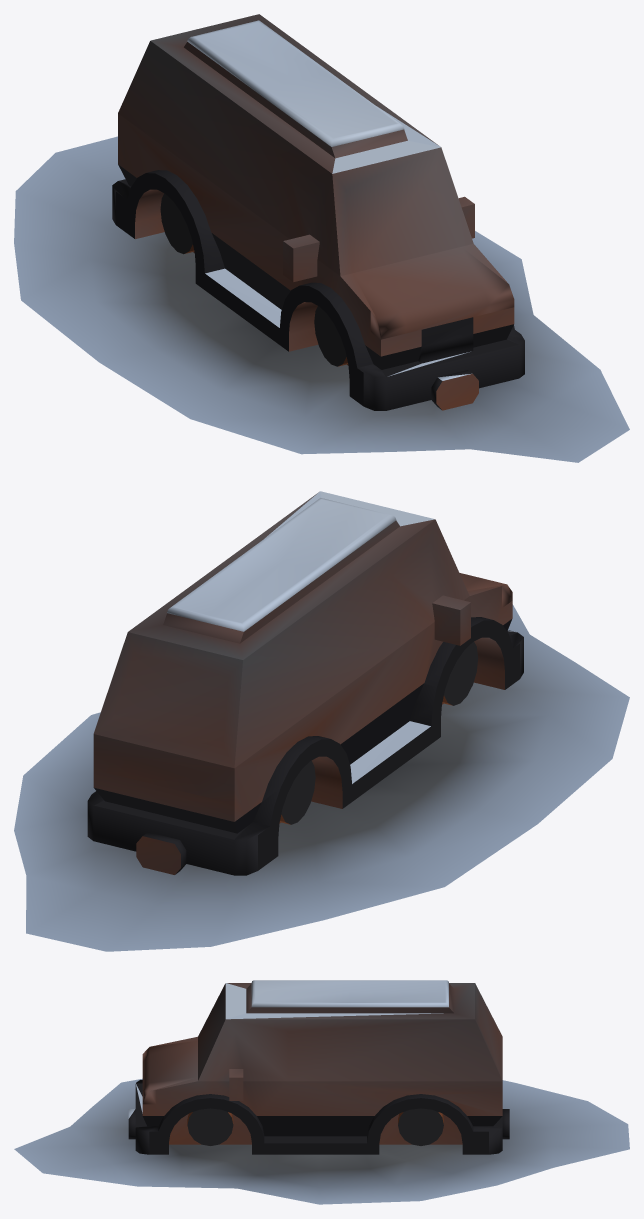
Rendered from van_burnt.glb.
3 views of the same model, one above another, from view 1: azimuth 30°, elevation 25°; view 2: azimuth 150°, elevation 25°; view 3: azimuth 270°, elevation 25° (orthographic). The views are drawn at different scales.
Visible parts, largest first — view 1: Body; view 2: Body; view 3: Body.
Boxes of the visible parts, x1=… form: Body: x1=14, y1=14, x2=629, y2=462; Body: x1=14, y1=491, x2=629, y2=951; Body: x1=14, y1=980, x2=629, y2=1204.
Size of the model in its own units: 4.65 by 2.23 by 8.57.
